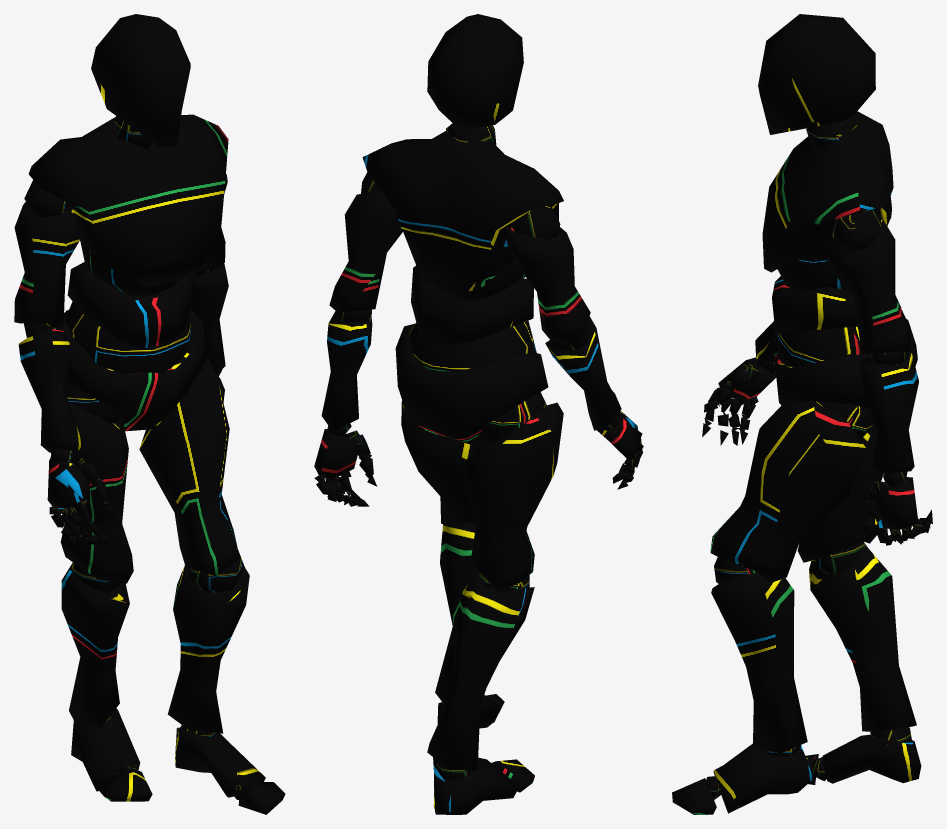
The model's file is y-bot-origin_000015.obj.
3 views of the same model, side by side, from view 1: azimuth 30°, elevation 25°; view 2: azimuth 150°, elevation 25°; view 3: azimuth 270°, elevation 25° (orthographic).
Parts seen in each view (by area): view 1: Alpha_Surface_Alpha_SurfaceMesh, Alpha_Joints_Alpha_JointsMesh; view 2: Alpha_Surface_Alpha_SurfaceMesh, Alpha_Joints_Alpha_JointsMesh; view 3: Alpha_Surface_Alpha_SurfaceMesh, Alpha_Joints_Alpha_JointsMesh.
Boxes of the visible parts, box(x1,y1,x2,y2) form: Alpha_Surface_Alpha_SurfaceMesh: box(14, 14, 285, 814); Alpha_Joints_Alpha_JointsMesh: box(23, 116, 249, 799); Alpha_Surface_Alpha_SurfaceMesh: box(314, 14, 642, 814); Alpha_Joints_Alpha_JointsMesh: box(314, 123, 643, 780); Alpha_Surface_Alpha_SurfaceMesh: box(672, 14, 932, 814); Alpha_Joints_Alpha_JointsMesh: box(704, 117, 930, 799).
Bounding box in the file's own units: 0.5958 × 1.79 × 0.5476.
